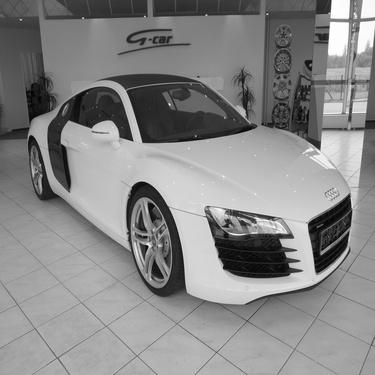car: (11, 65, 362, 308)
